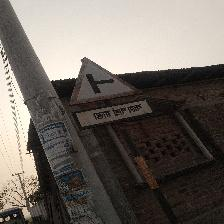Side-road-left: (68, 57, 153, 130)
